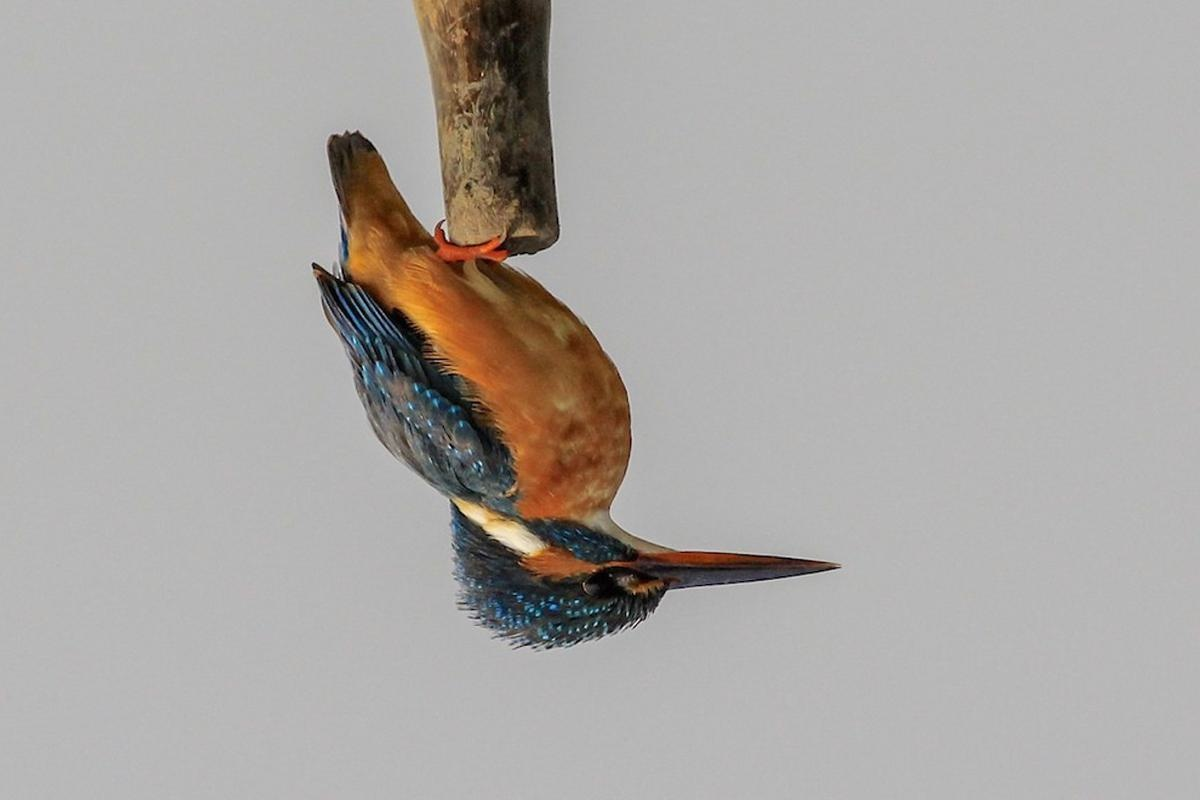kingfisher: (318, 129, 903, 647)
